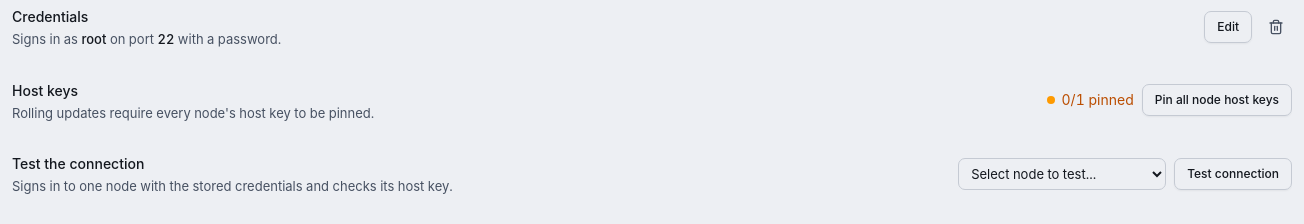
Test: a failed save › is shown once, in place: rolling-updates: Test connection
Click the button "Test connection" at (1233, 174), box [1174,158,1292,190]
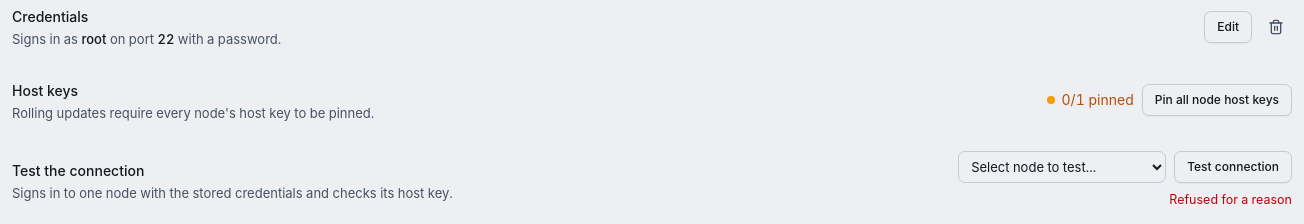
expect the text "Refused for a reason" is shown: met, box [1169,192,1292,207]
